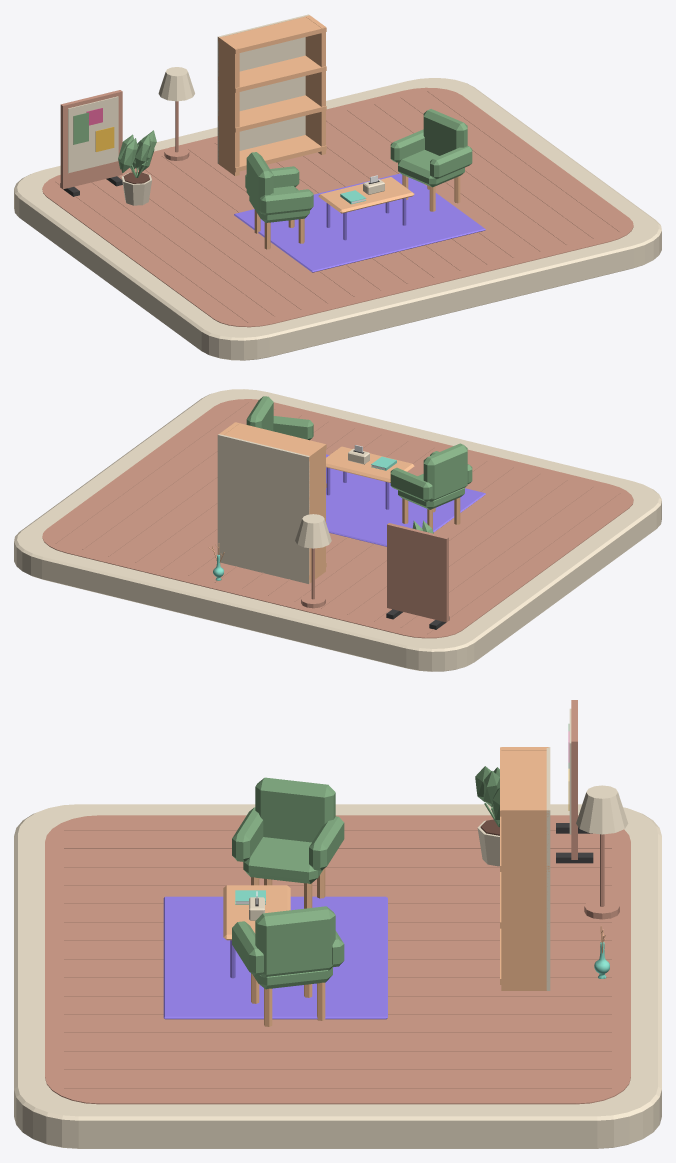
The model's file is room.fbx.
3 views of the same model, one above another, from view 1: azimuth 30°, elevation 25°; view 2: azimuth 150°, elevation 25°; view 3: azimuth 270°, elevation 25° (orthographic). The views are drawn at different scales.
Visible parts, largest first — view 1: COM-02 Floor Surface, COM-01 Rounded Base Direct, Rug, Back.002, Side, Canvas, Panel, Pot, Side.001, Shelf.003, Shelf.001, Shelf.002 (+11 smaller); view 2: COM-02 Floor Surface, COM-01 Rounded Base Direct, Back.002, Rug, Panel, Back, Side, Shelf.003, Rounded table top, Lamp shade, Arm.001, Arm.003 (+2 smaller); view 3: COM-02 Floor Surface, COM-01 Rounded Base Direct, Rug, Side.001, Back.001, Back, Shelf.003, Cushion, Lamp shade, Pot, Rounded table top, Arm.001 (+11 smaller).
Part boxes in pixels (left/top/right/bottom): COM-02 Floor Surface: left=42, top=87, right=633, bottom=327; COM-01 Rounded Base Direct: left=14, top=78, right=661, bottom=360; Rug: left=234, top=173, right=485, bottom=272; Back.002: left=217, top=14, right=309, bottom=163; Side: left=218, top=36, right=239, bottom=176; Canvas: left=68, top=96, right=118, bottom=173; Panel: left=60, top=90, right=122, bottom=189; Pot: left=118, top=130, right=156, bottom=205; Side.001: left=305, top=15, right=325, bottom=154; Shelf.003: left=218, top=16, right=326, bottom=53; Shelf.001: left=218, top=95, right=326, bottom=132; Shelf.002: left=218, top=55, right=326, bottom=92; COM-02 Floor Surface: left=42, top=399, right=633, bottom=638; COM-01 Rounded Base Direct: left=14, top=389, right=661, bottom=671; Back.002: left=217, top=434, right=309, bottom=583; Rug: left=326, top=454, right=485, bottom=546; Panel: left=387, top=523, right=448, bottom=622; Back: left=423, top=443, right=467, bottom=501; Side: left=305, top=443, right=325, bottom=583; Shelf.003: left=224, top=422, right=326, bottom=461; Rounded table top: left=326, top=446, right=414, bottom=482; Lamp shade: left=295, top=514, right=331, bottom=548; Arm.001: left=390, top=467, right=432, bottom=501; Arm.003: left=273, top=416, right=313, bottom=440; COM-02 Floor Surface: left=45, top=815, right=630, bottom=1104; COM-01 Rounded Base Direct: left=14, top=804, right=661, bottom=1148; Rug: left=163, top=896, right=387, bottom=1019; Side.001: left=501, top=807, right=548, bottom=990; Back.001: left=255, top=906, right=335, bottom=977; Back: left=255, top=777, right=335, bottom=842; Shelf.003: left=500, top=747, right=548, bottom=816; Cushion: left=243, top=837, right=322, bottom=883; Lamp shade: left=576, top=785, right=628, bottom=834; Pot: left=475, top=766, right=499, bottom=866; Rounded table top: left=223, top=885, right=290, bottom=940; Arm.001: left=309, top=816, right=344, bottom=870.
Bounding box in the file's own units: 600 × 190 × 520.
